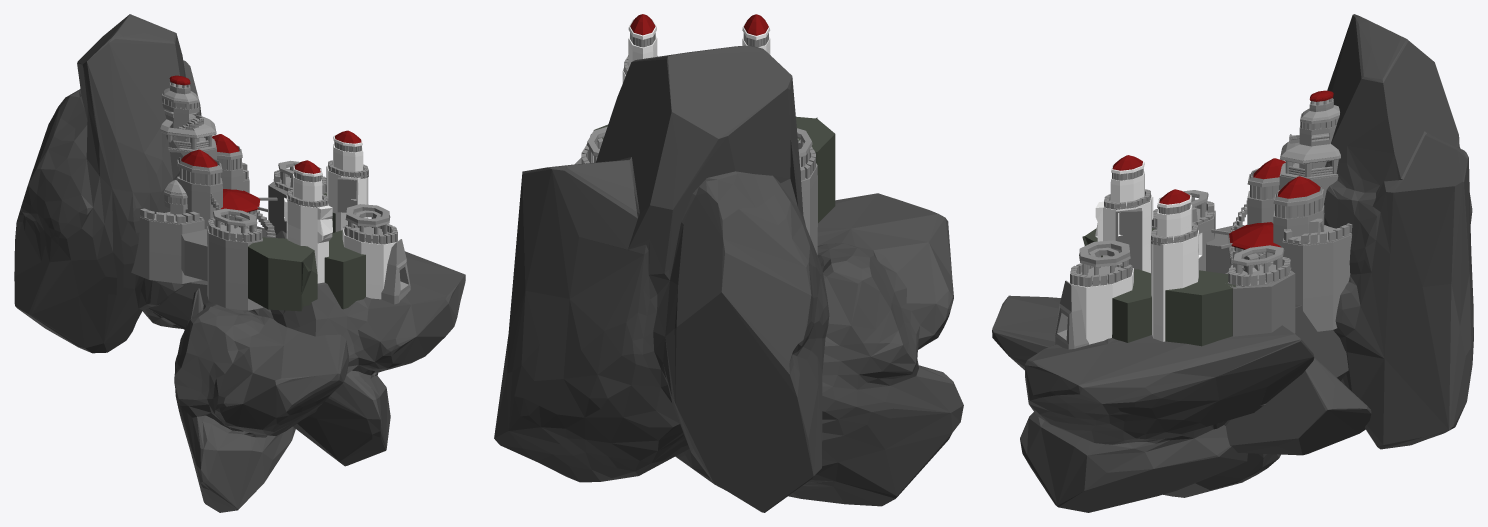
File: Castle_coll.FBX
The picture shows the model from 3 angles, left to right: view 1: azimuth 30°, elevation 25°; view 2: azimuth 150°, elevation 25°; view 3: azimuth 270°, elevation 25°; orthographic projection. The views are drawn at different scales.
Parts seen in each view (by area): view 1: CastleCliff_low, eastern ancient casttle, CastleCliff_low002, CastleCliff_low001, Box018; view 2: CastleCliff_low, CastleCliff_low002, eastern ancient casttle; view 3: CastleCliff_low, eastern ancient casttle, CastleCliff_low001, CastleCliff_low002, Box017.
Boxes of the visible parts, x1,y1,x2,y2 form: CastleCliff_low: (14, 14, 201, 353); eastern ancient casttle: (131, 75, 410, 311); CastleCliff_low002: (174, 288, 348, 512); CastleCliff_low001: (148, 226, 465, 466); Box018: (337, 177, 357, 212); CastleCliff_low: (494, 45, 829, 512); CastleCliff_low002: (675, 193, 963, 506); eastern ancient casttle: (574, 14, 835, 254); CastleCliff_low: (1324, 14, 1473, 449); eastern ancient casttle: (1055, 90, 1352, 349); CastleCliff_low001: (1020, 304, 1348, 512); CastleCliff_low002: (992, 295, 1371, 497); Box017: (1115, 208, 1142, 270).
Bounding box in the file's own units: 2876 × 3650 × 3401.
